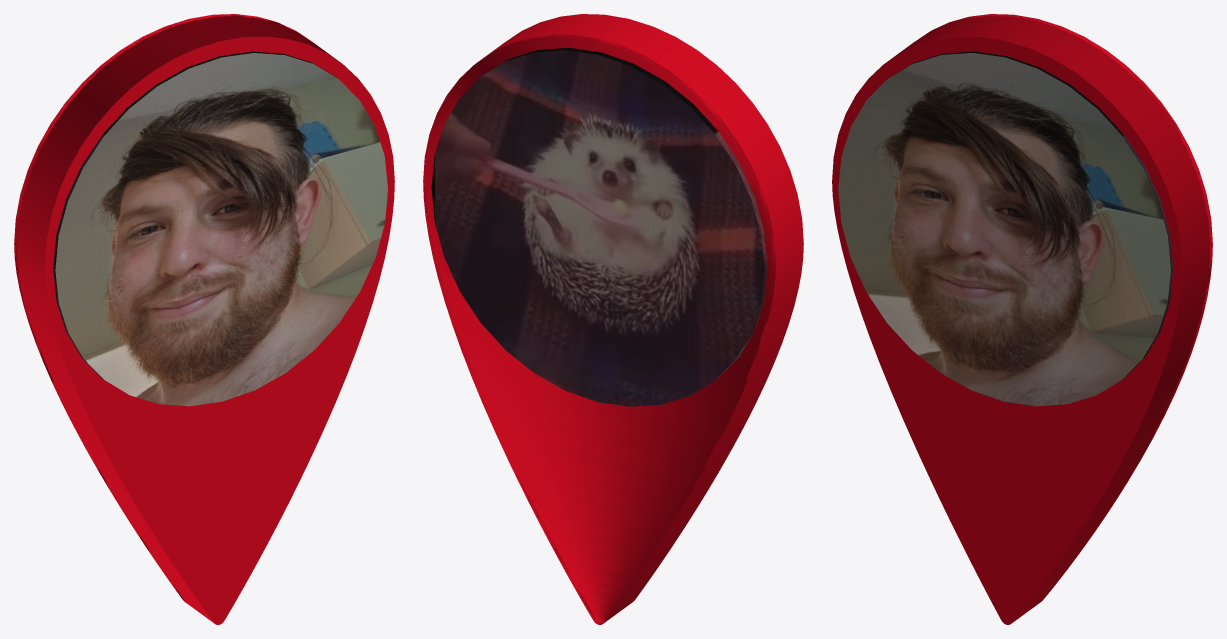
The model's file is fred.glb.
3 renders of one model, left to right at view 1: azimuth 30°, elevation 25°; view 2: azimuth 150°, elevation 25°; view 3: azimuth 330°, elevation 25°, orthographic.
Parts seen in each view (by area): view 1: Cylindre.001, Curve, Cylindre; view 2: Cylindre, Curve; view 3: Cylindre.001, Curve, Cylindre.
Part boxes in pixels (left/top/right/bottom): Cylindre.001: left=55, top=53, right=387, bottom=406; Curve: left=14, top=14, right=394, bottom=624; Cylindre: left=53, top=51, right=337, bottom=379; Cylindre: left=431, top=47, right=767, bottom=406; Curve: left=423, top=14, right=803, bottom=624; Cylindre.001: left=838, top=53, right=1170, bottom=406; Curve: left=832, top=14, right=1212, bottom=624; Cylindre: left=889, top=51, right=1173, bottom=378.
Size of the model in its own units: 0.2766 by 0.4404 by 0.047.
Materials: 3 (2 with a texture image).
